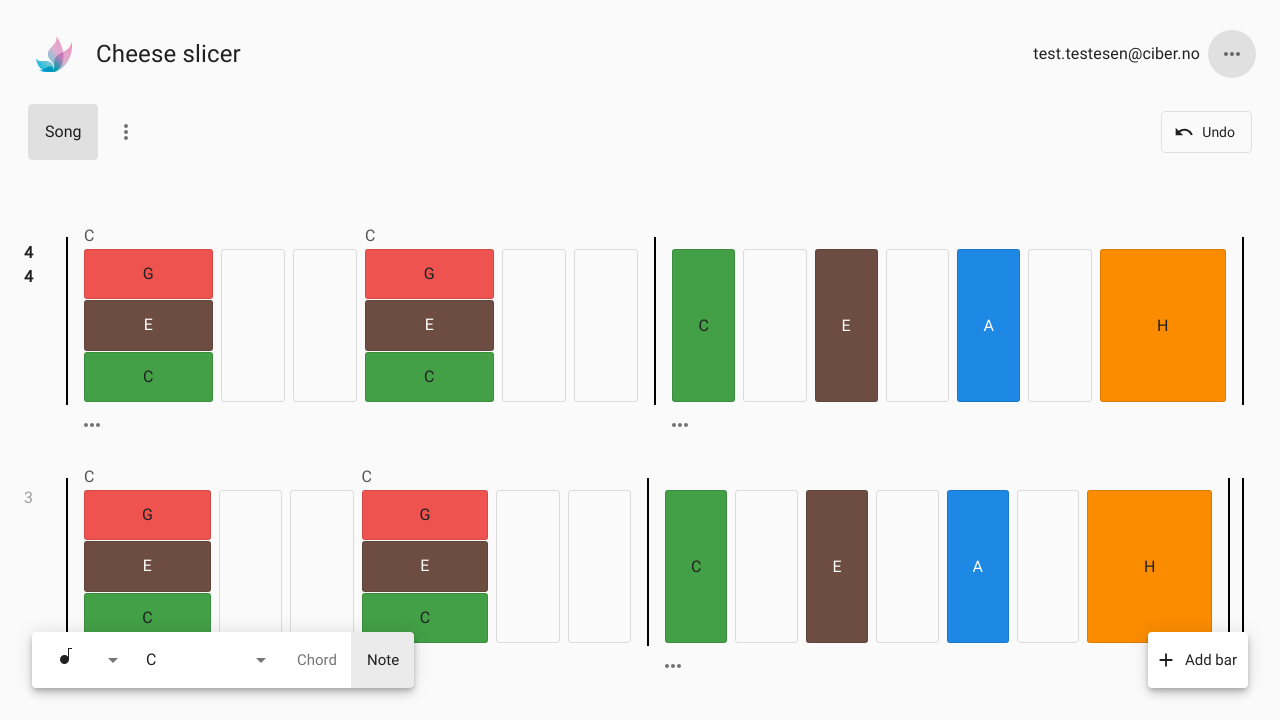
Test: SongView › Should create new voice with same notes as main voice
This screenshot has width=1280, height=720.
Expected: the tab "Song" is shown, [28,104,98,160]
Click the button named "Voice menu": (126,132) [102,108,150,156]
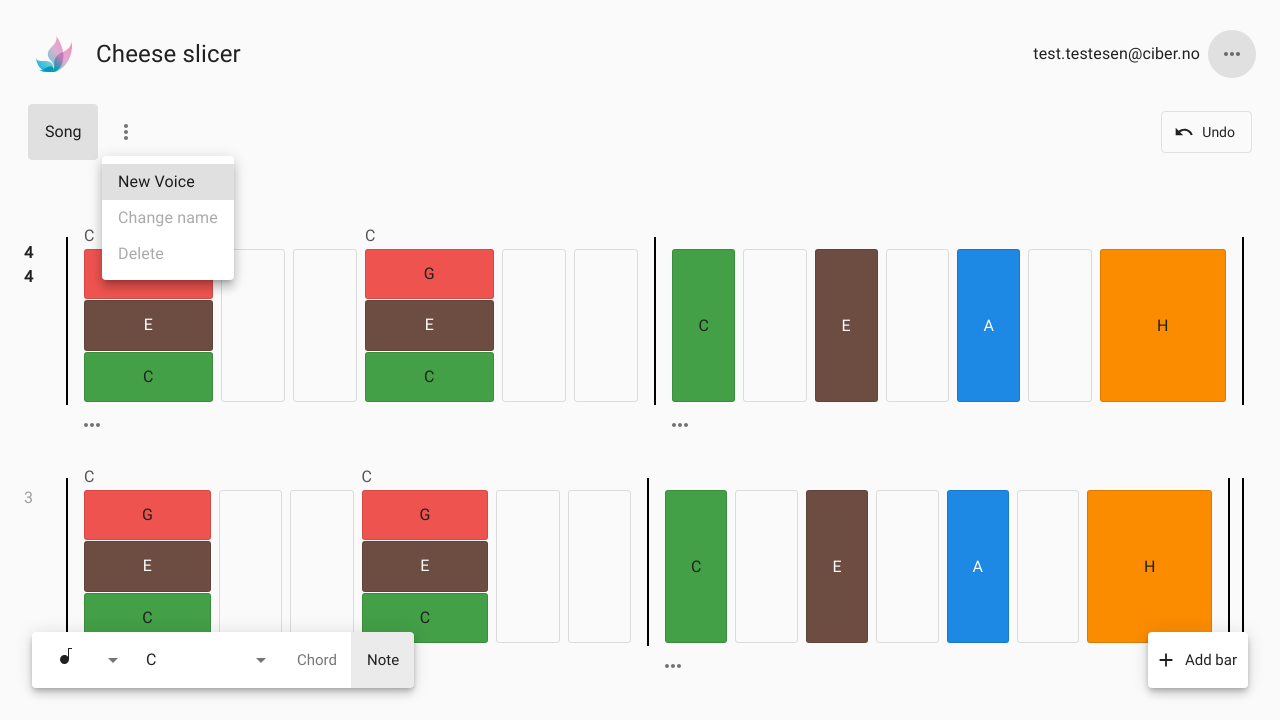
Click the menu item "New Voice": (168,182) [102,164,234,200]
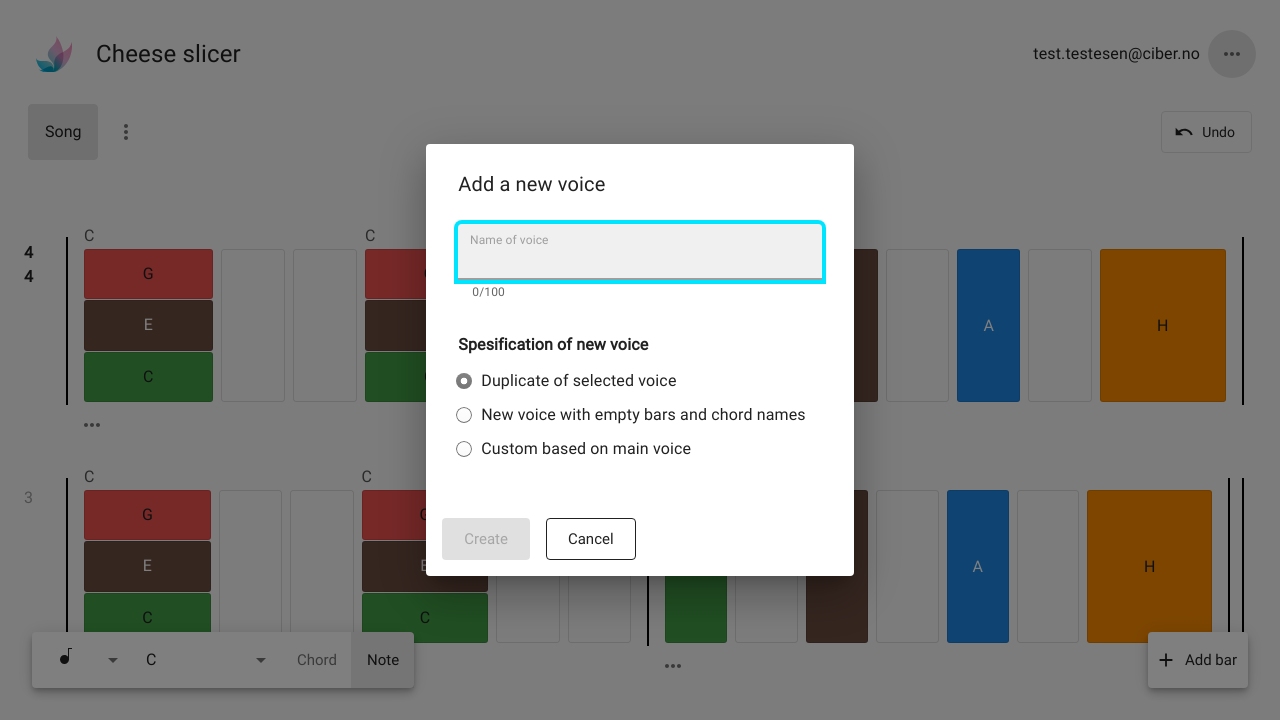
Now the heading reads "Add a new voice", box [458,172,606,196]
In the field labelled "Name of voice": (640,252) [458,224,822,280], type "Test Ny Stemme"
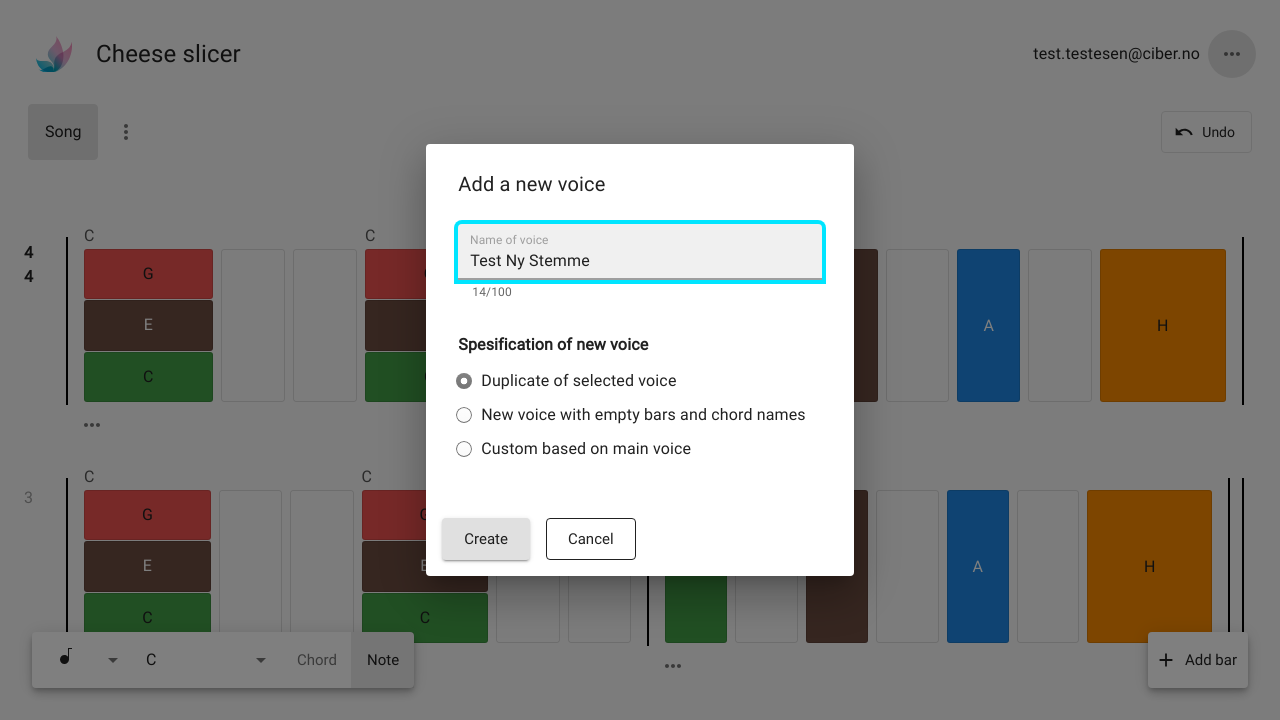
Click the button "Create": (486,539) [442,518,530,560]
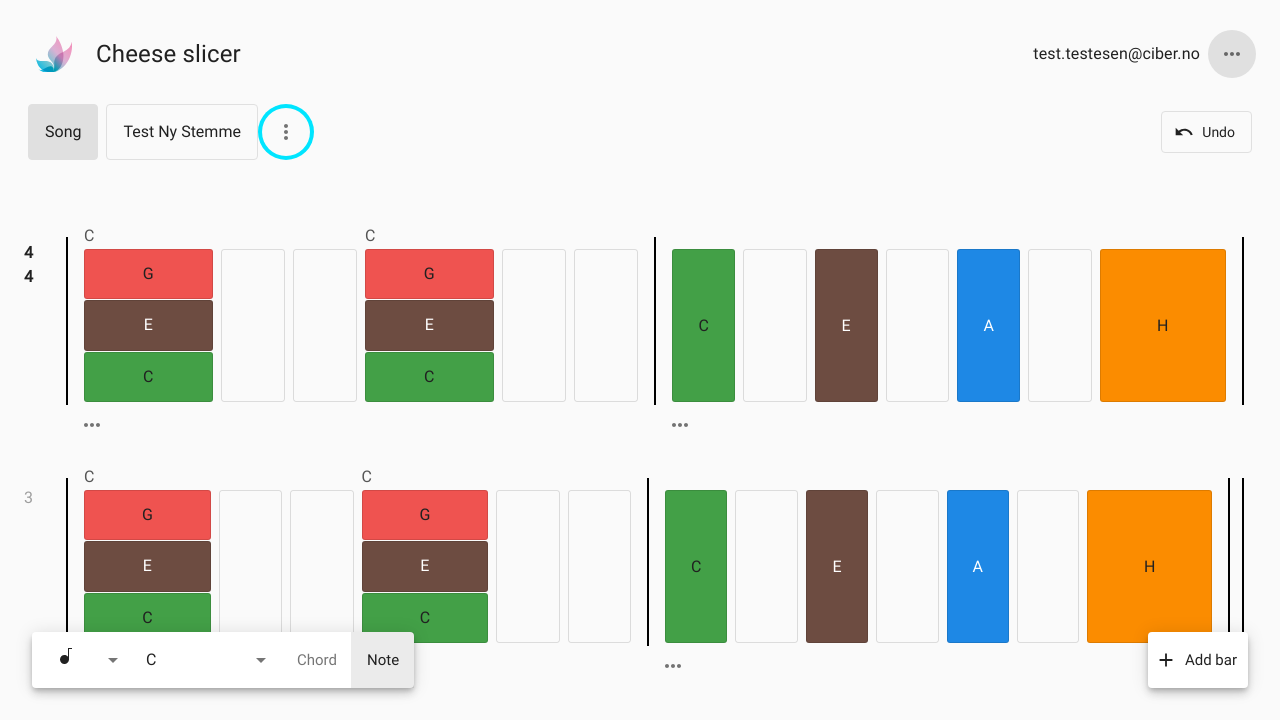
Now the tab "Test Ny Stemme" is shown, box [106,104,258,160]
